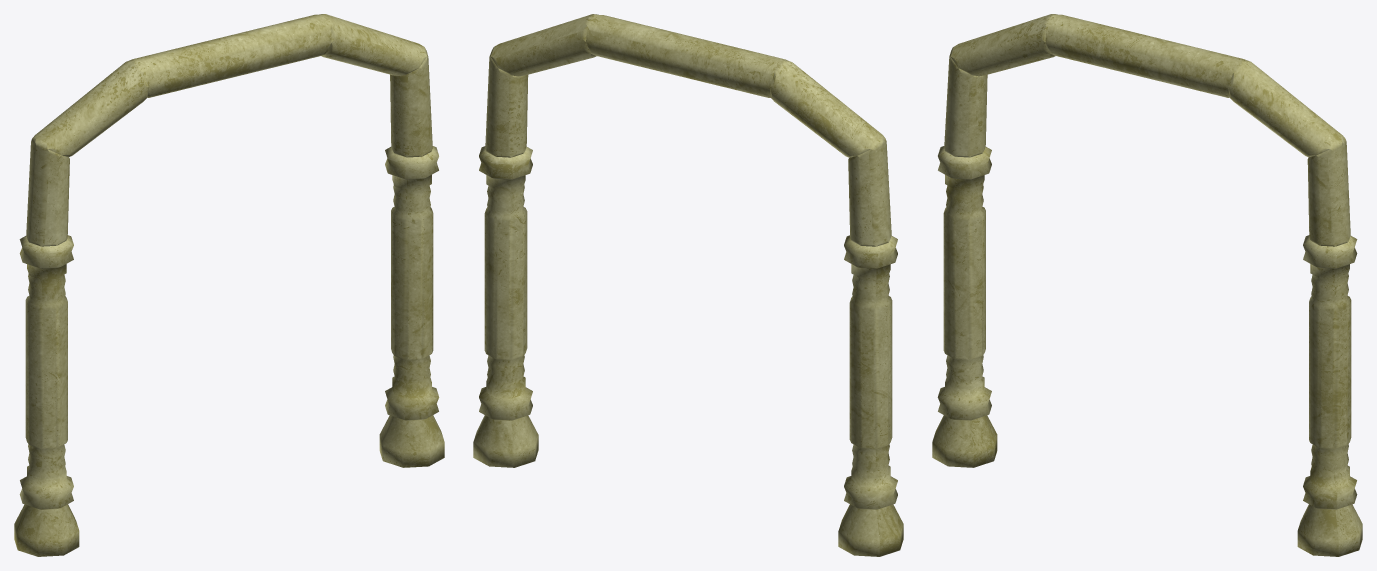
File: Arch.fbx
3 renders of one model, left to right at view 1: azimuth 30°, elevation 25°; view 2: azimuth 150°, elevation 25°; view 3: azimuth 330°, elevation 25°, orthographic.
Visible parts, largest first — view 1: pCylinder15; view 2: pCylinder15; view 3: pCylinder15.
Boxes of the visible parts, x1,y1,x2,y2 form: pCylinder15: (14,14,444,556); pCylinder15: (473,14,903,556); pCylinder15: (932,14,1362,556).
Size of the model in its own units: 928 by 964 by 128.
Materials: 1 (1 with a texture image).
